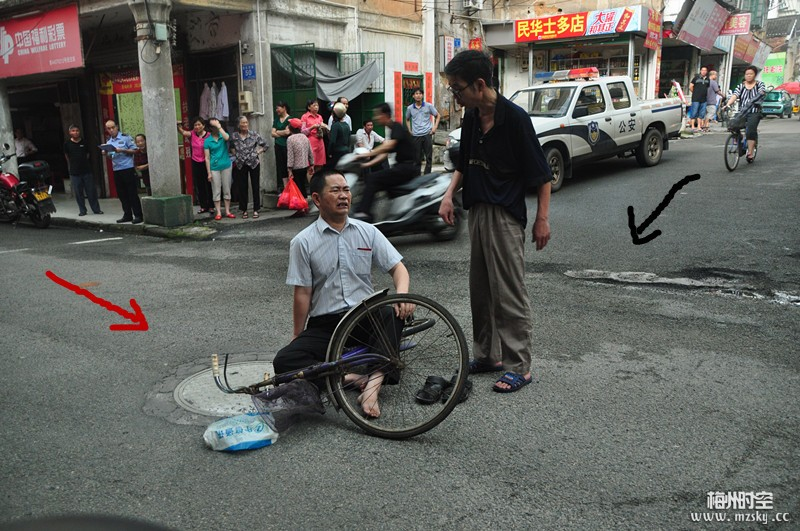10+: (1, 50, 775, 394)
down: (254, 164, 434, 454)
